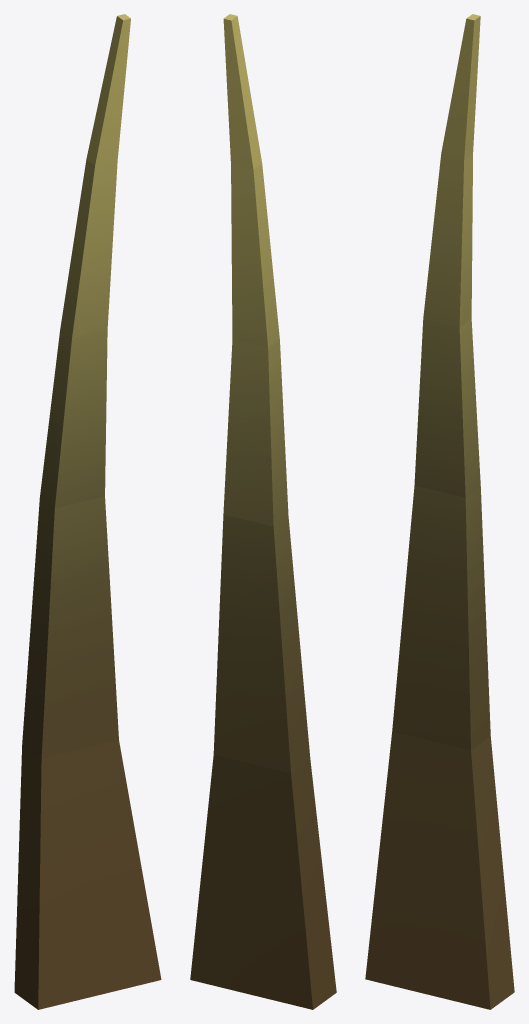
The model's file is grass2.fbx.
3 views of the same model, side by side, from view 1: azimuth 30°, elevation 25°; view 2: azimuth 150°, elevation 25°; view 3: azimuth 330°, elevation 25° (orthographic).
Parts seen in each view (by area): view 1: grass.002; view 2: grass.002; view 3: grass.002.
Part boxes in pixels (x1,y1,x2,y2): grass.002: (14, 14, 161, 1009); grass.002: (190, 14, 336, 1009); grass.002: (365, 14, 514, 1009).
Size of the model in its own units: 6.48 by 14.86 by 111.
